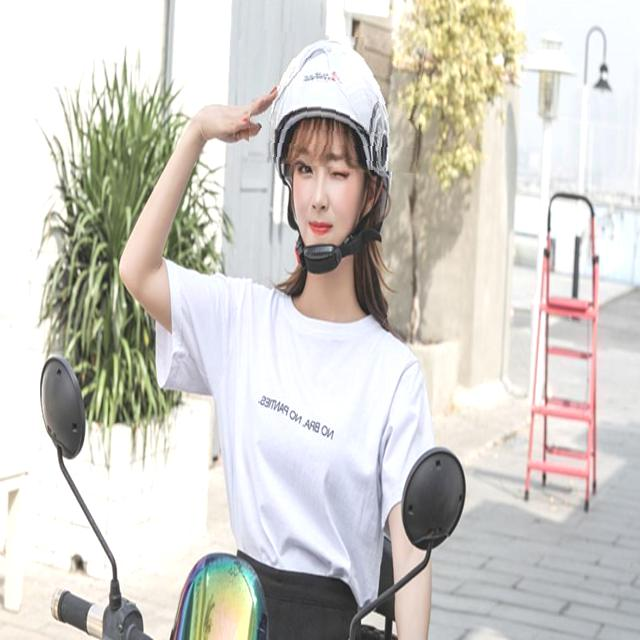helmet: (250, 33, 423, 171)
